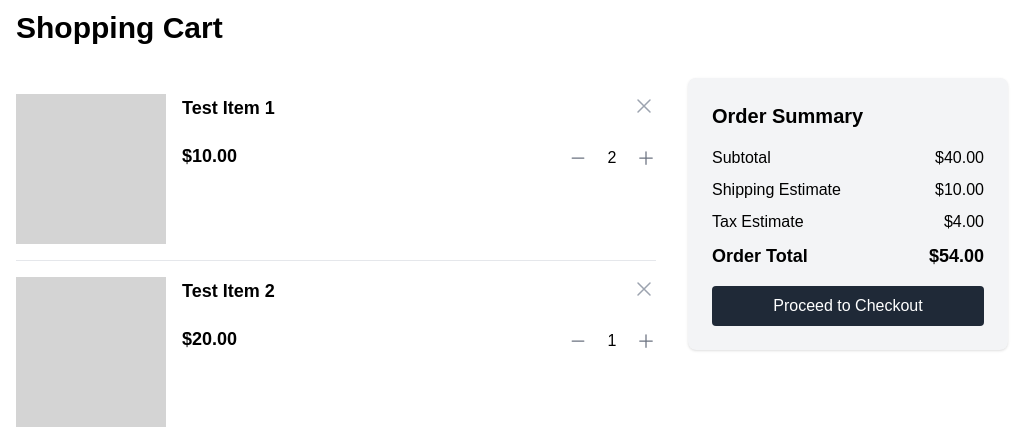
Test: CartContents Integration › Given a non-empty cart, When removing an item, Then it should update the cart contents
Click the button with test id "remove-item-button" in the row of "Test Item 1": (644,106) [632,94,656,118]
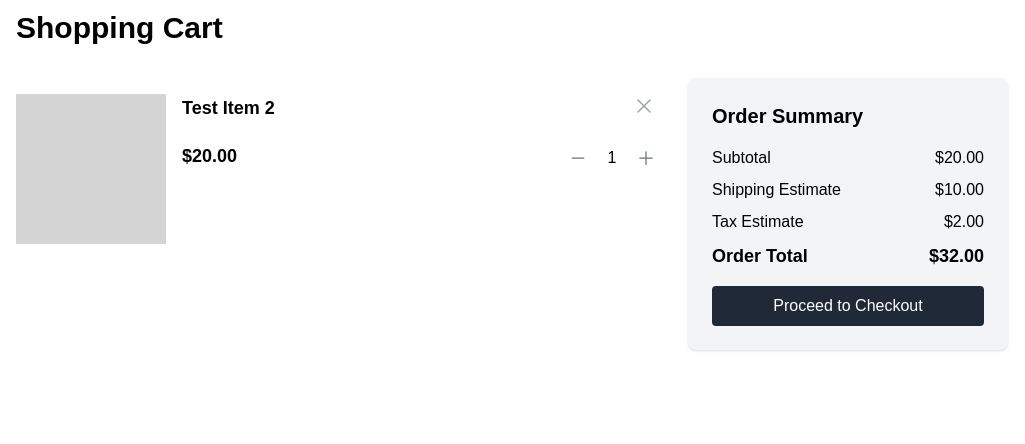
Expected: the heading "Test Item 2" is shown, [182,94,275,122]
Result: the heading "Test Item 1" is gone
